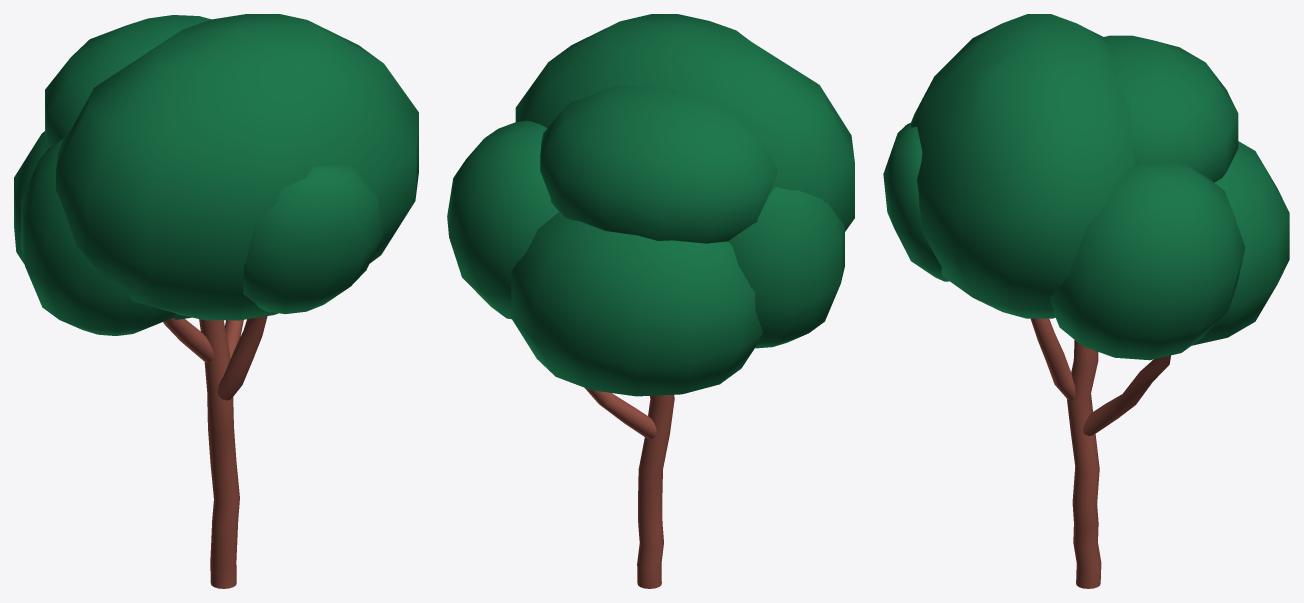
File: P_Tree_001.fbx
The picture shows the model from 3 angles, left to right: view 1: azimuth 30°, elevation 25°; view 2: azimuth 150°, elevation 25°; view 3: azimuth 270°, elevation 25°; orthographic projection. The views are drawn at different scales.
Parts seen in each view (by area): view 1: Cylinder001; view 2: Cylinder001; view 3: Cylinder001.
Boxes of the visible parts, x1,y1,x2,y2 form: Cylinder001: (14, 14, 418, 588); Cylinder001: (447, 14, 854, 588); Cylinder001: (883, 14, 1289, 588).
Size of the model in its own units: 321 by 476 by 322.
